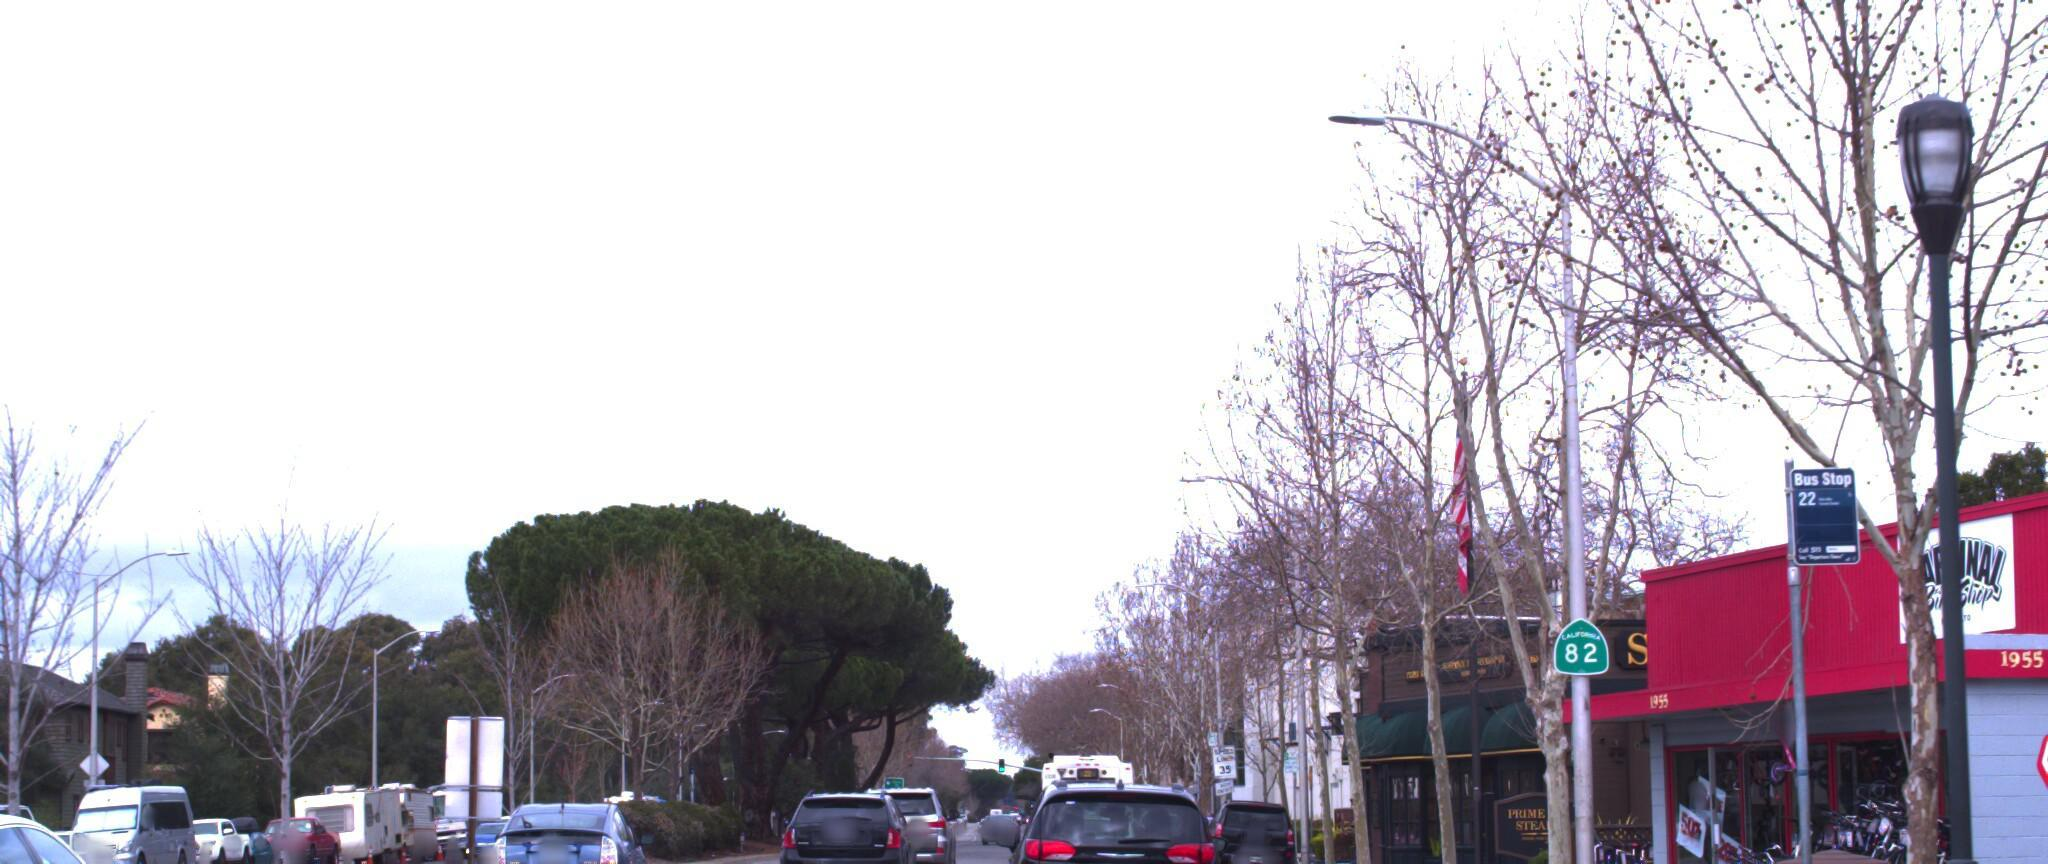bicycle: (1725, 831, 1898, 864), (1710, 835, 1883, 864)
car: (999, 757, 1229, 864), (0, 780, 222, 864), (65, 756, 221, 864), (776, 766, 918, 864), (487, 784, 654, 864), (1207, 780, 1310, 864), (839, 801, 959, 864)
